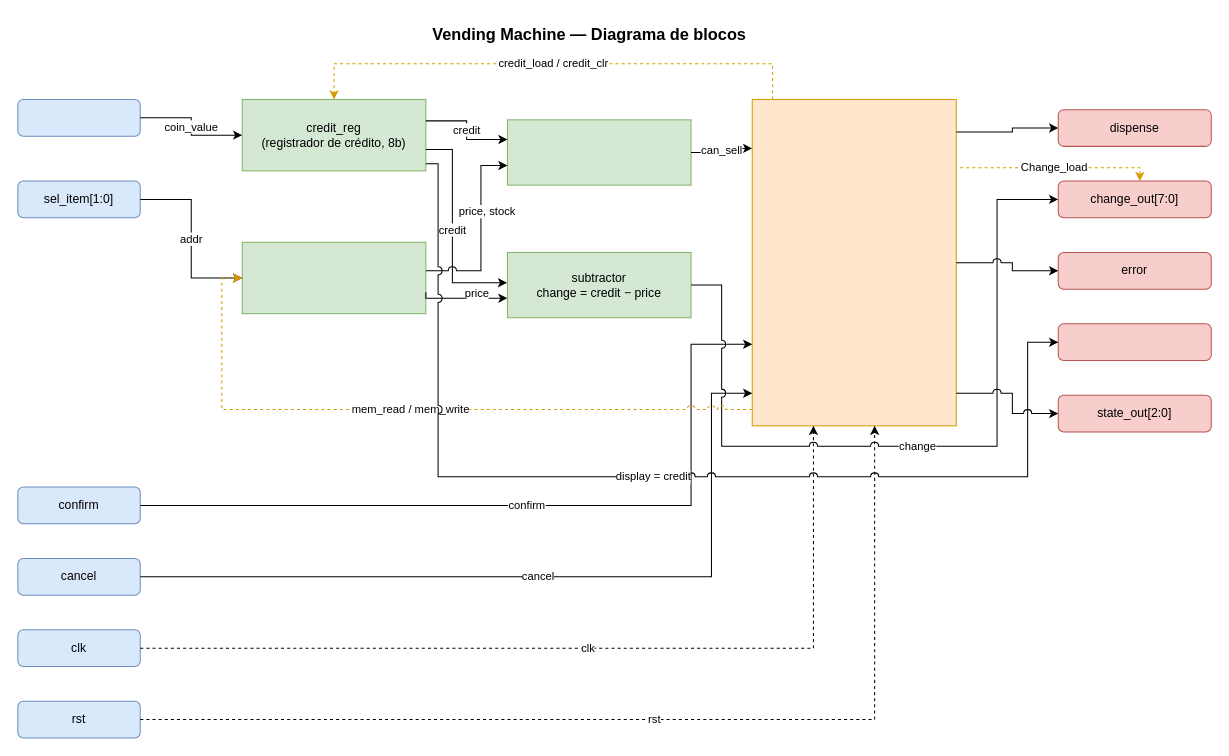
The diagram is 1229 pixels wide and 756 high, and some of its shapes have lost their labels. The shapes that lost their labels are listed below. From the top down, each one's box as (x1, y1, x2, y2) in pixels, then its label:
(17, 98, 140, 136): coin_in[1:0]
(506, 119, 691, 185): comparator can_sell
(241, 241, 426, 314): memory (4 × 16: price, stock)
(751, 98, 956, 426): control_unit FSM de Moore (6 estados)
(1057, 323, 1211, 361): display[7:0]
